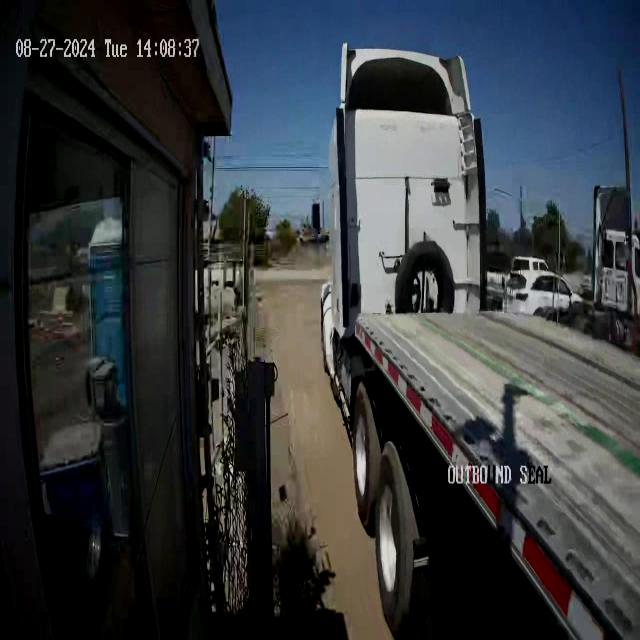BOBTAIL: (312, 41, 639, 637)
